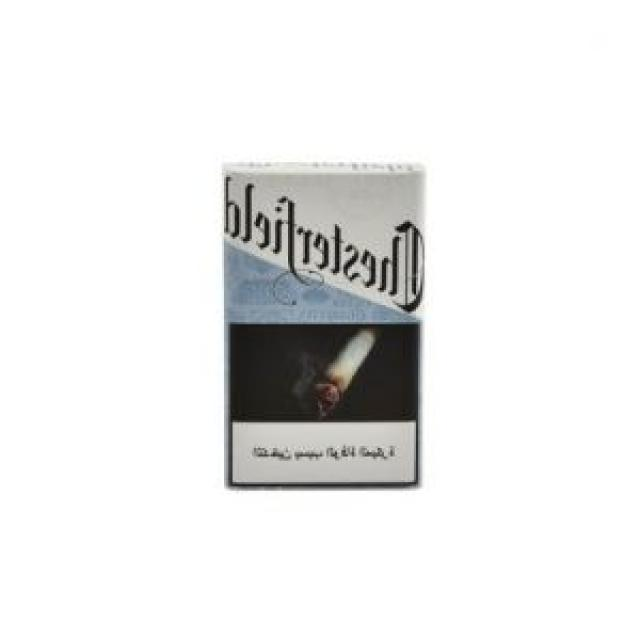chesterfield: (228, 166, 420, 490)
